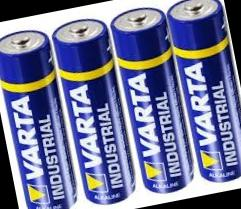battery: (37, 3, 146, 209), (97, 0, 207, 203), (156, 0, 241, 194), (0, 17, 85, 209)
